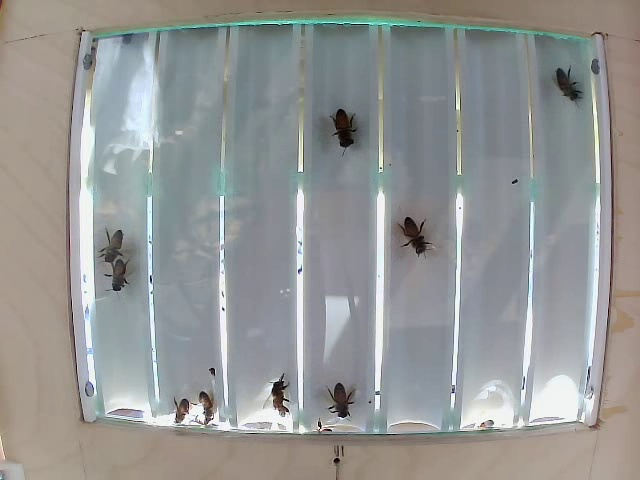bee: (554, 64, 593, 115), (400, 211, 437, 258), (264, 374, 300, 416), (319, 377, 358, 415), (332, 120, 372, 157), (98, 219, 135, 258), (105, 266, 139, 291)
